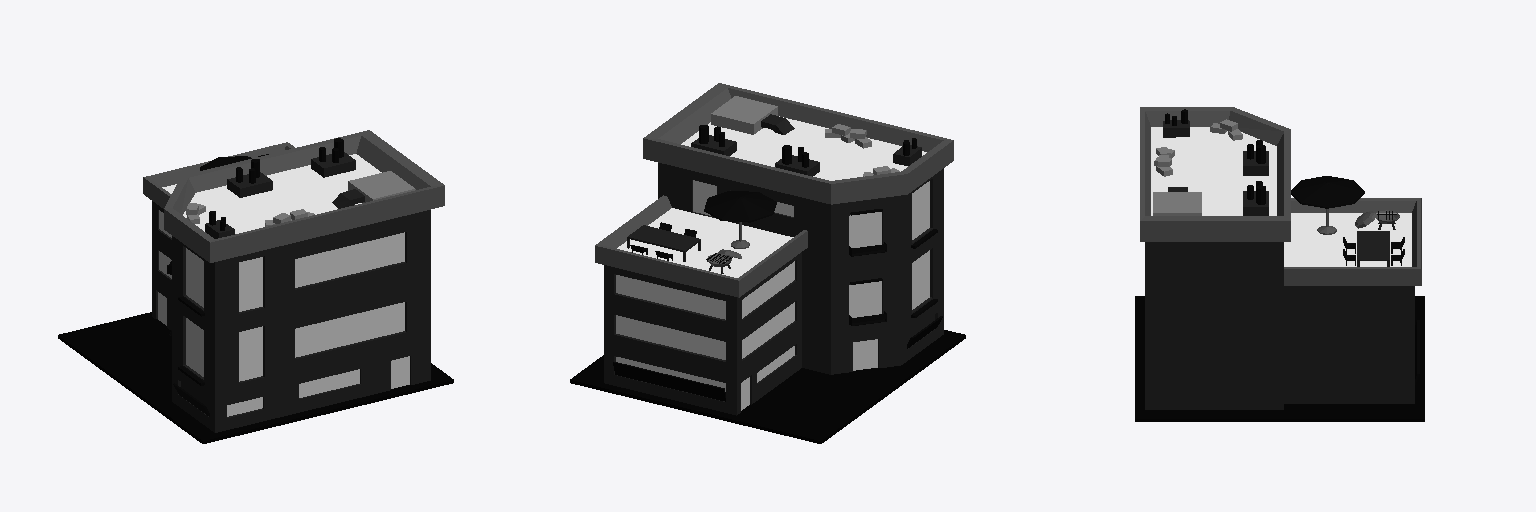
File: buidling.obj
The picture shows the model from 3 angles: view 1: azimuth 30°, elevation 25°; view 2: azimuth 150°, elevation 25°; view 3: azimuth 270°, elevation 25°; orthographic projection.
Parts seen in each view (by area): view 1: Batiment.001, RES_T3_16_WEILL_01_Sol, Batiment; view 2: Batiment.001, Batiment, RES_T3_16_WEILL_01_Sol; view 3: Batiment.001, Batiment, RES_T3_16_WEILL_01_Sol.
Part boxes in pixels (x1,y1,x2,y2): Batiment.001: (164,130,444,432); RES_T3_16_WEILL_01_Sol: (58,312,453,443); Batiment: (143,142,294,329); Batiment.001: (643,83,953,374); Batiment: (595,191,807,415); RES_T3_16_WEILL_01_Sol: (570,330,965,443); Batiment.001: (1140,107,1290,409); Batiment: (1284,176,1421,403); RES_T3_16_WEILL_01_Sol: (1135,296,1424,421).
Size of the model in its own units: 4 by 3.18 by 4.